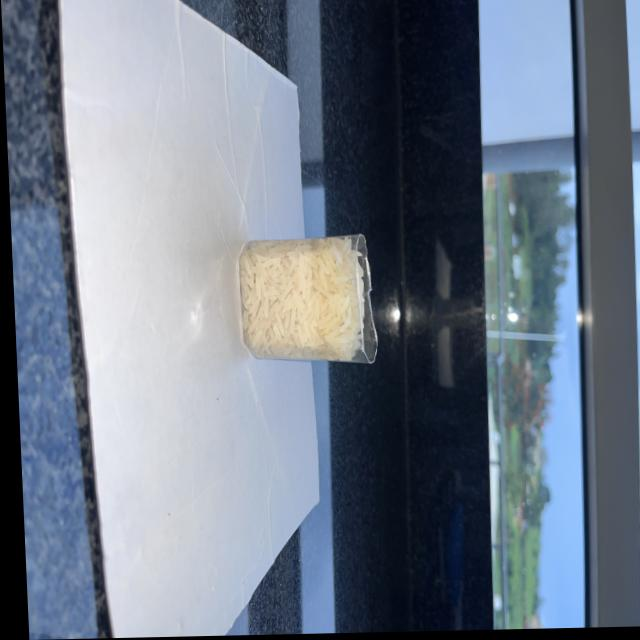raw_rice: (236, 237, 367, 366)
